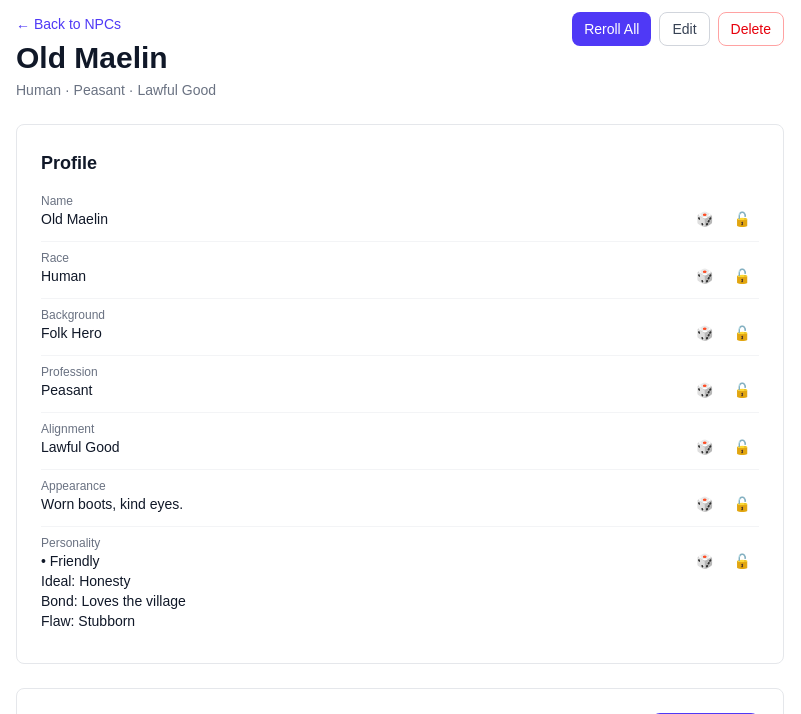
Test case: NpcDetailPage › rerolls a single field on dice click
Expected: the text "Lawful Good" is shown, [41,439,120,455]
Click the button named "reroll alignment". click: (705, 447)
box: [688,433,722,461]
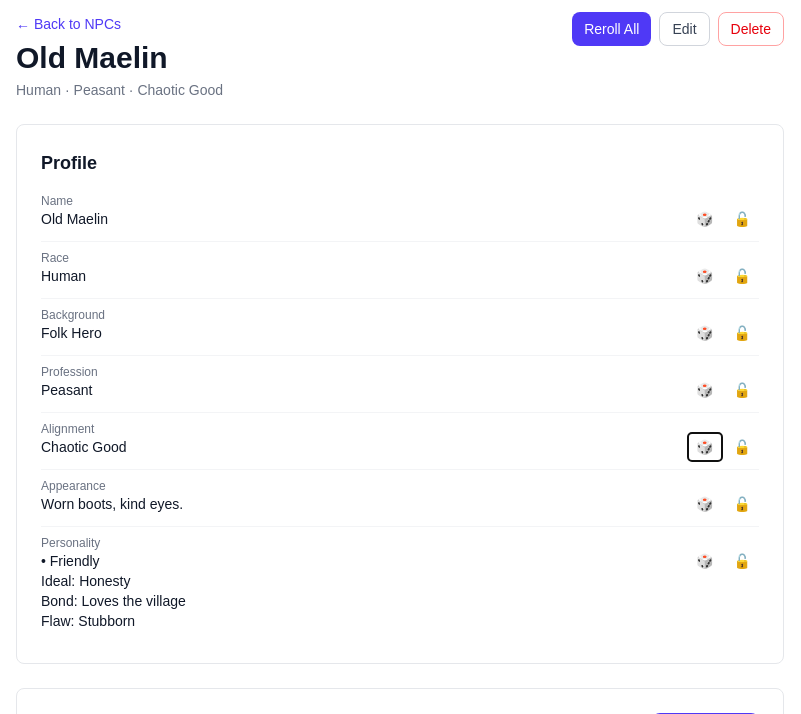
Expected: the text "Chaotic Good" is shown, [41,439,127,455]
